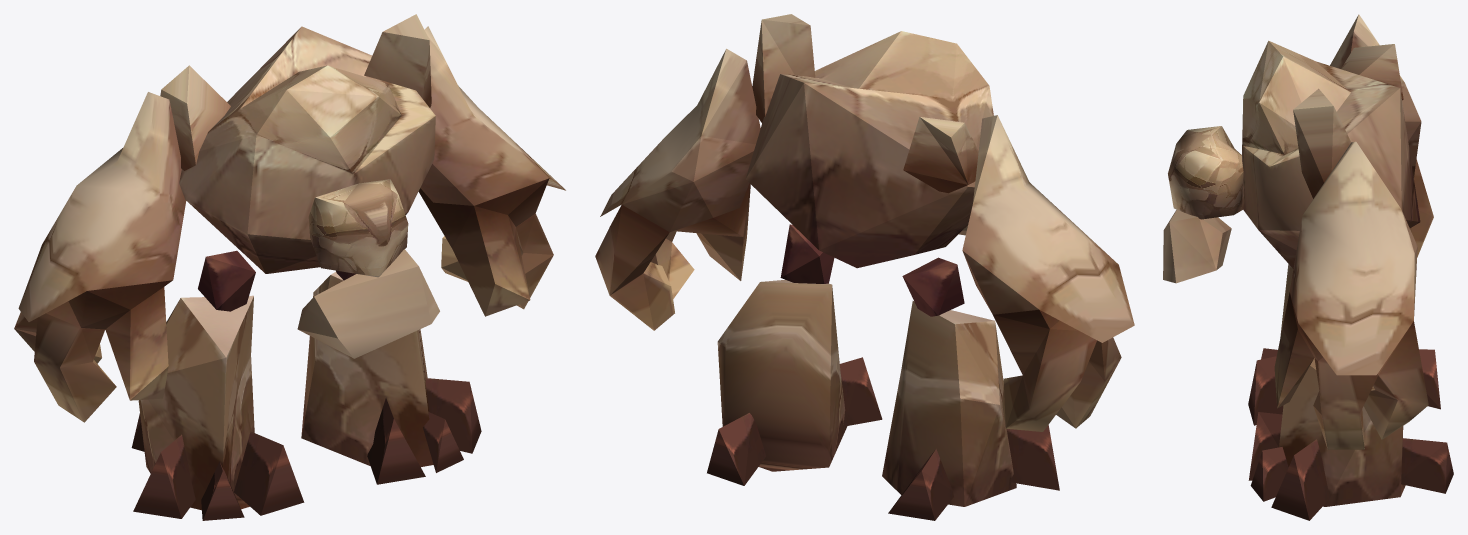
The model's file is GolemSeparatedMesh.fbx.
3 views of the same model, side by side, from view 1: azimuth 30°, elevation 25°; view 2: azimuth 150°, elevation 25°; view 3: azimuth 270°, elevation 25° (orthographic). The views are drawn at different scales.
Parts seen in each view (by area): view 1: polySurface37, polySurface34, polySurface36, polySurface32, polySurface31, polySurface35, polySurface33, polySurface23, polySurface29, polySurface30, polySurface22, polySurface21 (+4 smaller); view 2: polySurface37, polySurface34, polySurface36, polySurface31, polySurface32, polySurface30, polySurface29, polySurface27, polySurface22, polySurface26, polySurface28, polySurface25 (+1 smaller); view 3: polySurface36, polySurface37, polySurface31, polySurface33, polySurface35, polySurface29, polySurface34, polySurface21, polySurface27, polySurface30, polySurface23, polySurface19 (+2 smaller).
Boxes of the visible parts, bbox=[...] form: polySurface37: bbox=[179, 26, 435, 273]; polySurface34: bbox=[14, 92, 186, 422]; polySurface36: bbox=[418, 26, 565, 316]; polySurface32: bbox=[138, 295, 254, 510]; polySurface31: bbox=[301, 271, 433, 466]; polySurface35: bbox=[297, 249, 439, 358]; polySurface33: bbox=[308, 179, 408, 277]; polySurface23: bbox=[234, 431, 304, 515]; polySurface29: bbox=[364, 14, 431, 107]; polySurface30: bbox=[160, 65, 230, 170]; polySurface22: bbox=[133, 434, 195, 518]; polySurface21: bbox=[426, 378, 481, 453]; polySurface37: bbox=[745, 31, 993, 268]; polySurface34: bbox=[962, 115, 1134, 431]; polySurface36: bbox=[595, 48, 760, 330]; polySurface31: bbox=[717, 279, 847, 471]; polySurface32: bbox=[882, 301, 1016, 506]; polySurface30: bbox=[903, 117, 978, 193]; polySurface29: bbox=[752, 14, 815, 123]; polySurface27: bbox=[707, 413, 765, 485]; polySurface22: bbox=[1007, 425, 1059, 490]; polySurface26: bbox=[902, 257, 964, 316]; polySurface28: bbox=[888, 449, 953, 520]; polySurface25: bbox=[780, 224, 834, 283]; polySurface36: bbox=[1274, 141, 1428, 449]; polySurface37: bbox=[1242, 40, 1420, 268]; polySurface31: bbox=[1279, 358, 1405, 506]; polySurface33: bbox=[1168, 126, 1243, 219]; polySurface35: bbox=[1163, 209, 1231, 283]; polySurface29: bbox=[1293, 88, 1350, 198]; polySurface34: bbox=[1330, 14, 1433, 257]; polySurface21: bbox=[1271, 439, 1329, 520]; polySurface27: bbox=[1401, 438, 1453, 493]; polySurface30: bbox=[1341, 44, 1403, 100]; polySurface23: bbox=[1248, 356, 1283, 425]; polySurface19: bbox=[1250, 447, 1288, 501].
Bounding box in the file's own units: 299 × 226 × 151.
